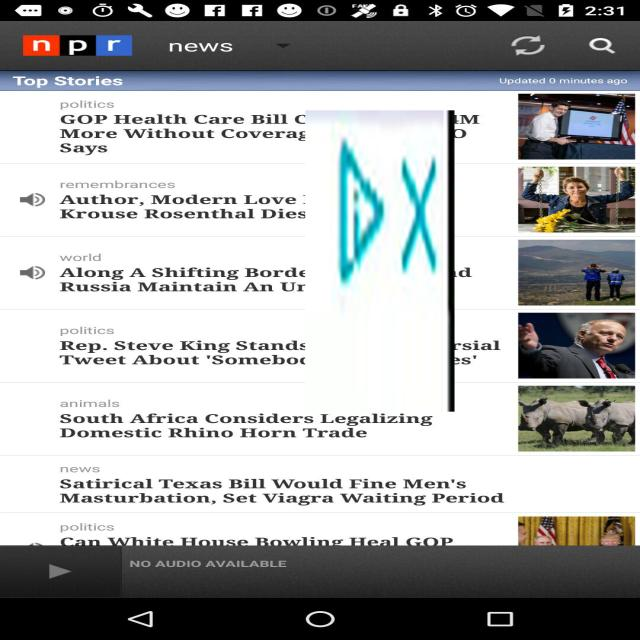sneaking: (305, 110, 455, 412)
